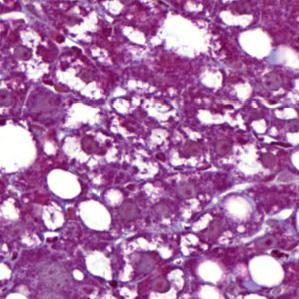steatosis: (249, 252, 285, 289), (48, 167, 82, 200)
